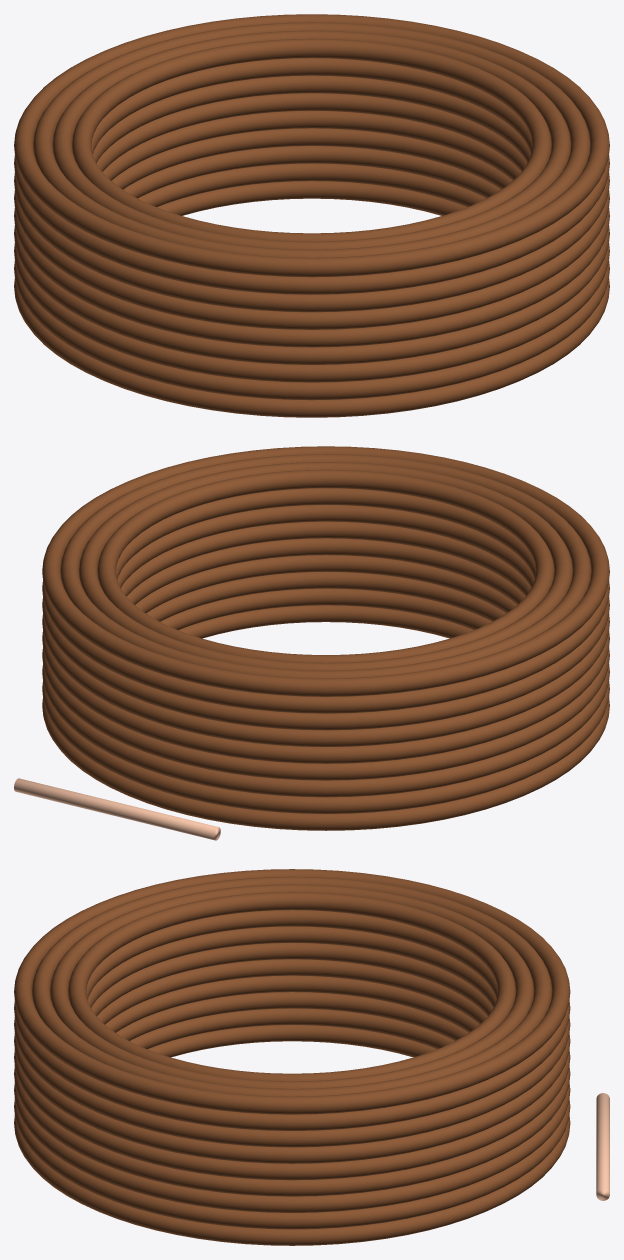
File: coil_brown.glb
The picture shows the model from 3 angles, top to bottom: view 1: azimuth 30°, elevation 25°; view 2: azimuth 150°, elevation 25°; view 3: azimuth 270°, elevation 25°; orthographic projection. The views are drawn at different scales.
Visible parts, largest first — view 1: coil; view 2: coil; view 3: coil.
Part boxes in pixels (x1,y1,x2,y2): coil: [14, 14, 609, 417]; coil: [14, 446, 609, 840]; coil: [14, 869, 609, 1245].
Bounding box in the file's own units: 0.0984 × 0.0288 × 0.1054.
